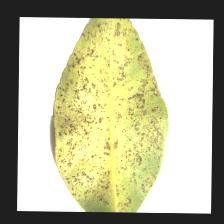canker: (64, 54, 154, 172)
